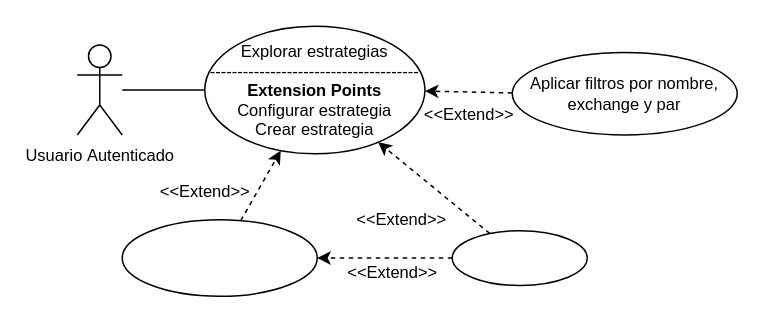
Some shapes in this 764 by 323 pixel diagram are drawn without their labels. The box of each missing label's shape, as (x1, y1, x2, y2) in pixels:
Configurar estrategia: (121, 218, 317, 296)
Crear estrategia: (451, 229, 587, 285)
